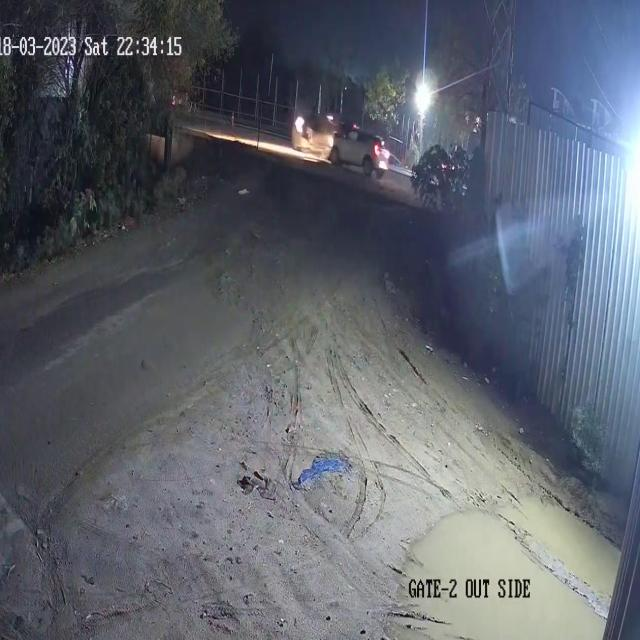accident: (289, 103, 395, 185)
